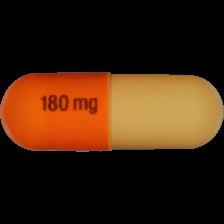62037-598: (0, 0, 224, 224)
